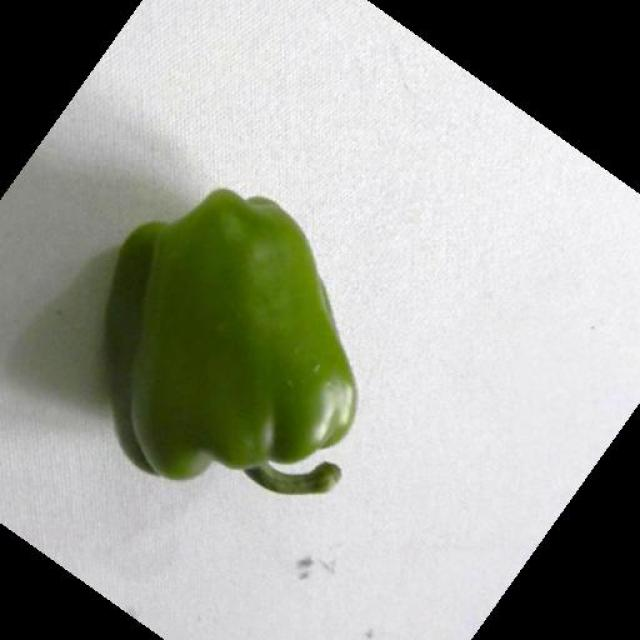Fresh_Capsicum: (98, 168, 397, 531)
